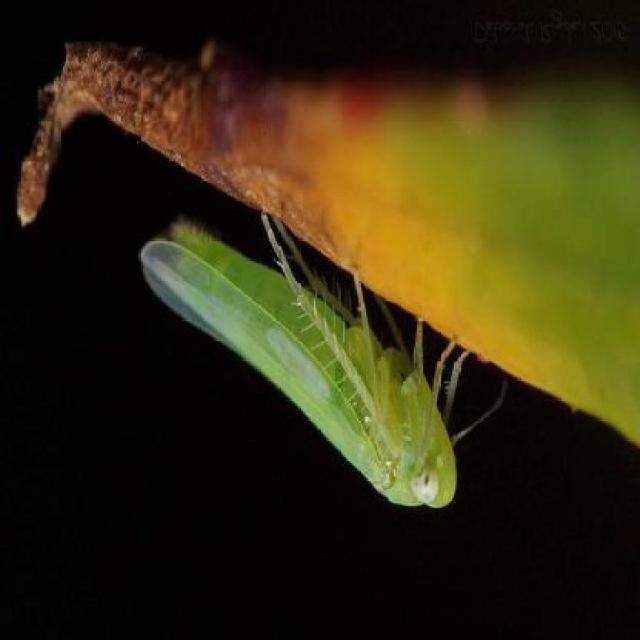green-leafhopper: (141, 206, 472, 507)
